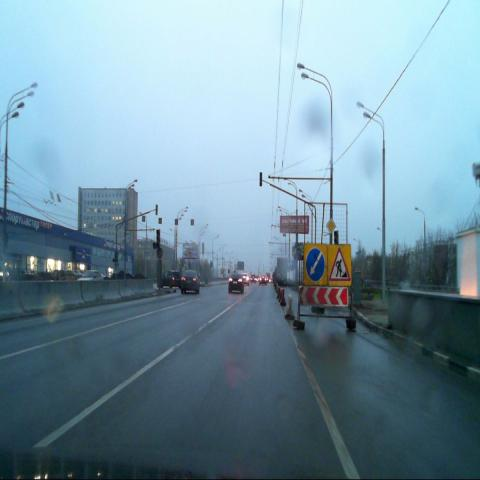4_2_2: (304, 243, 327, 286)
